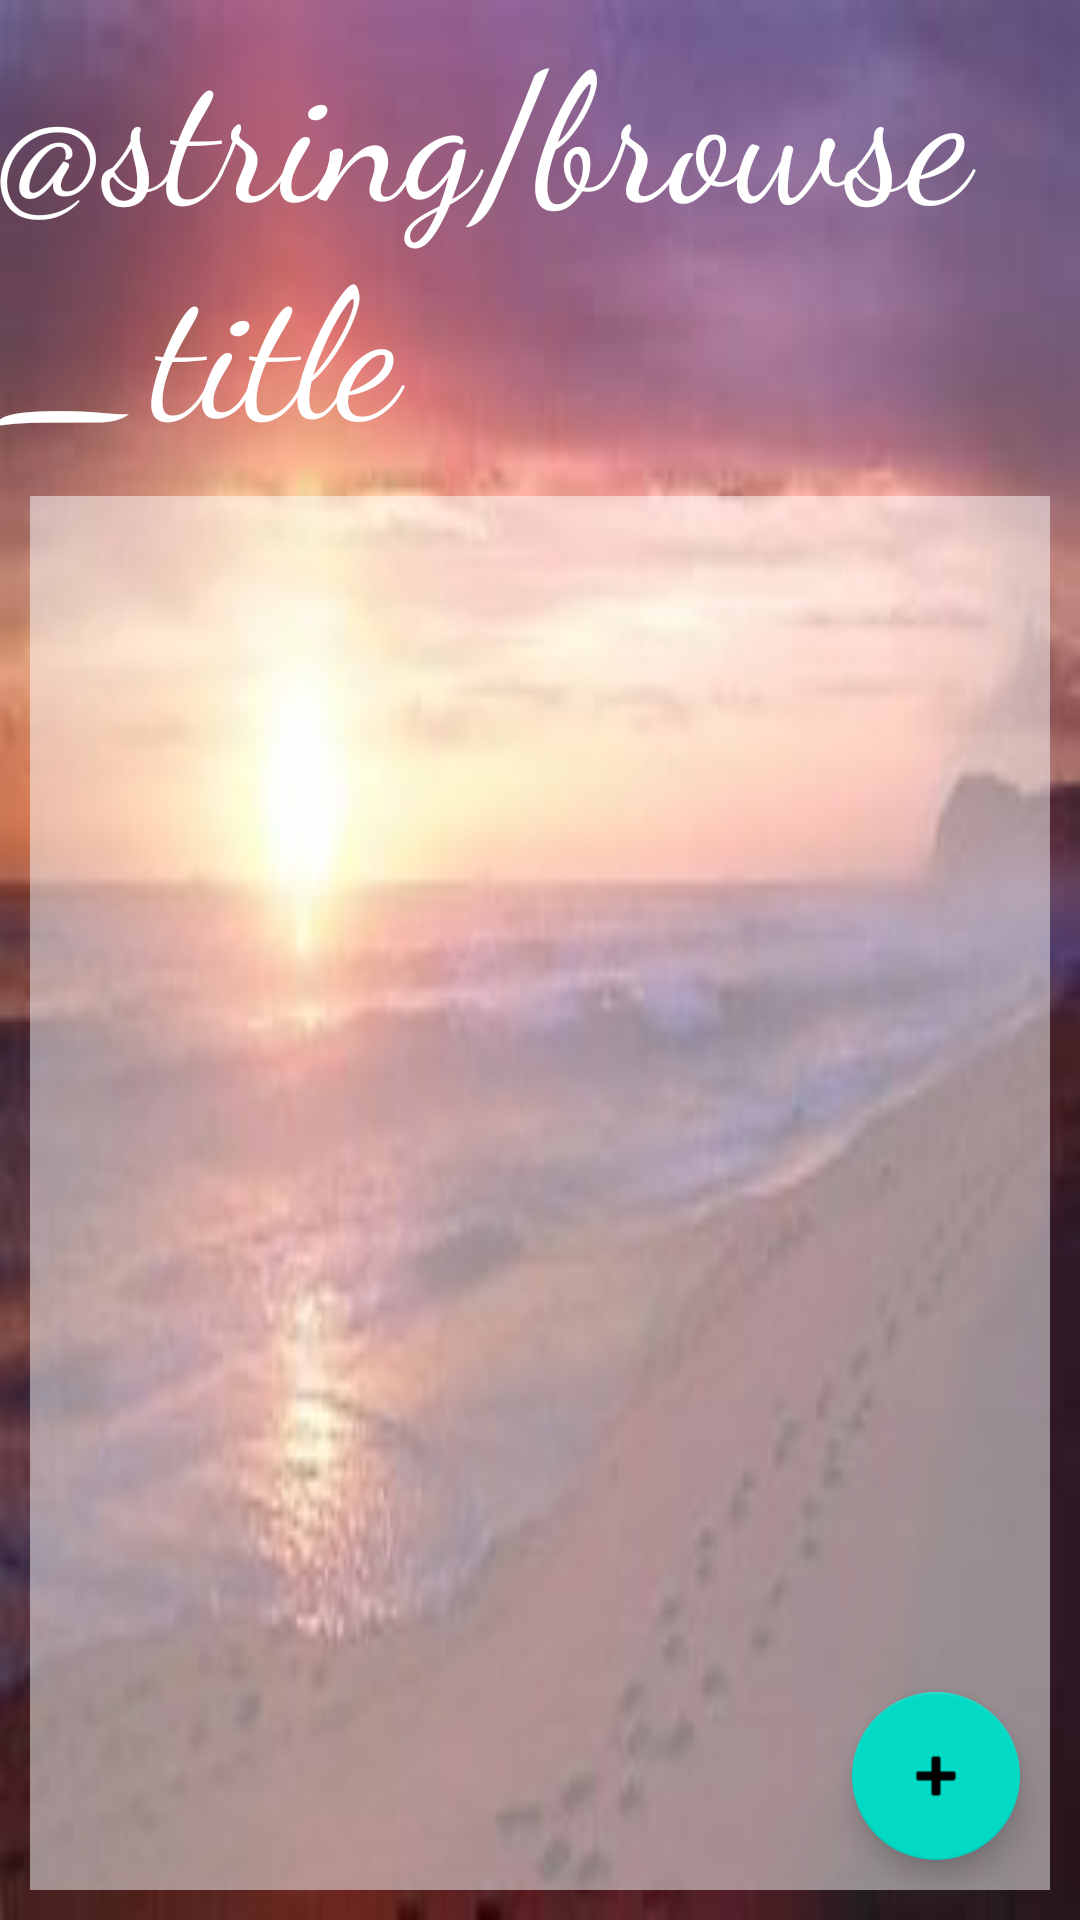

Screen size 1080 x 1920. Icon name, then its center in pixels as [x,y]:
Create new Activity: [936,1776]
